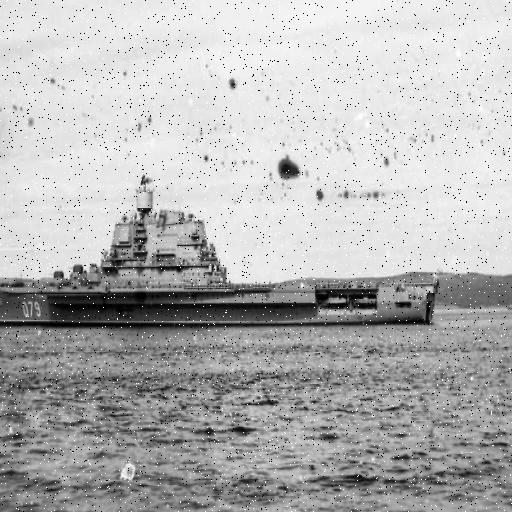Portanaves: (1, 167, 447, 331)
